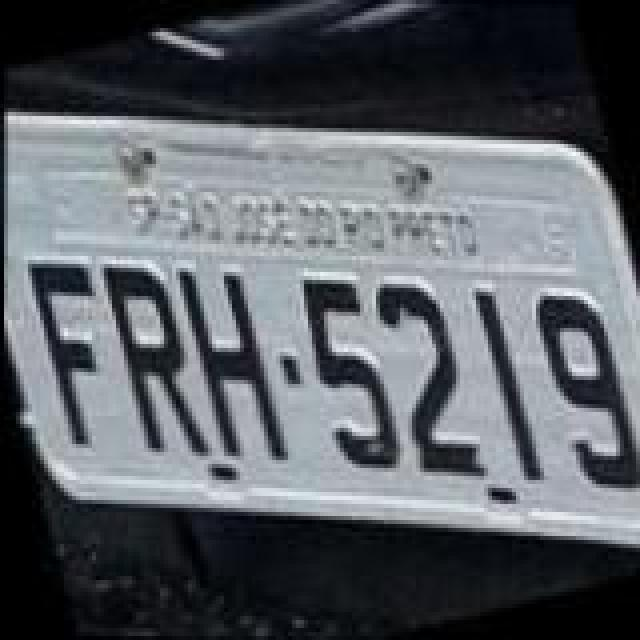1: (464, 280, 548, 488)
2: (362, 268, 490, 496)
5: (286, 258, 410, 478)
9: (524, 276, 640, 500)
F: (16, 242, 136, 454)
H: (170, 250, 294, 474)
R: (94, 246, 218, 470)
